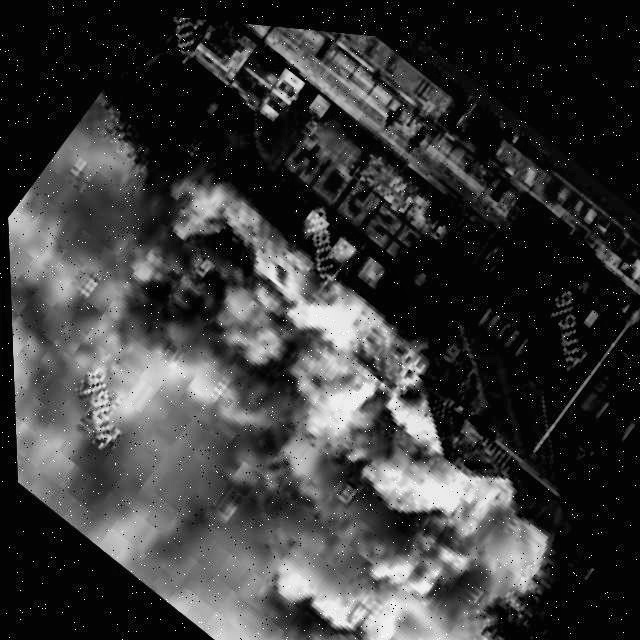Smoke: (2, 82, 619, 640)
